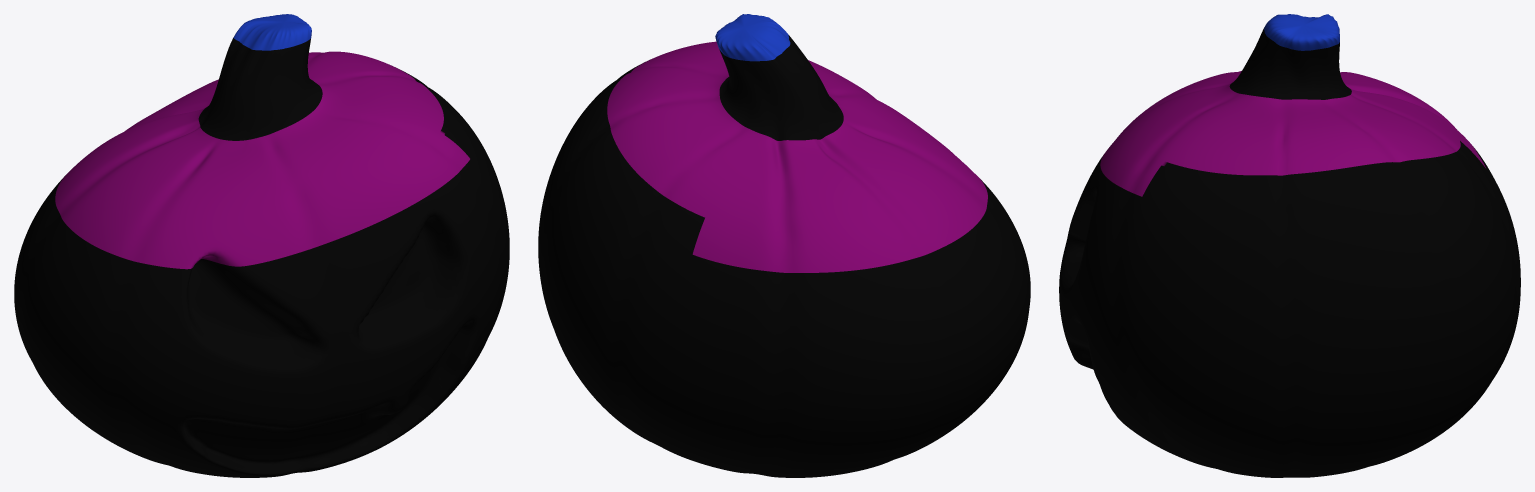
File: JackOLantern.FBX
The picture shows the model from 3 angles, left to right: view 1: azimuth 30°, elevation 25°; view 2: azimuth 150°, elevation 25°; view 3: azimuth 270°, elevation 25°; orthographic projection. The views are drawn at different scales.
Parts seen in each view (by area): view 1: Sphere001; view 2: Sphere001; view 3: Sphere001.
Part boxes in pixels (x1,y1,x2,y2): Sphere001: [14, 14, 509, 477]; Sphere001: [538, 14, 1030, 477]; Sphere001: [1059, 14, 1520, 477].
Bounding box in the file's own units: 0.4841 × 0.44 × 0.4265.
